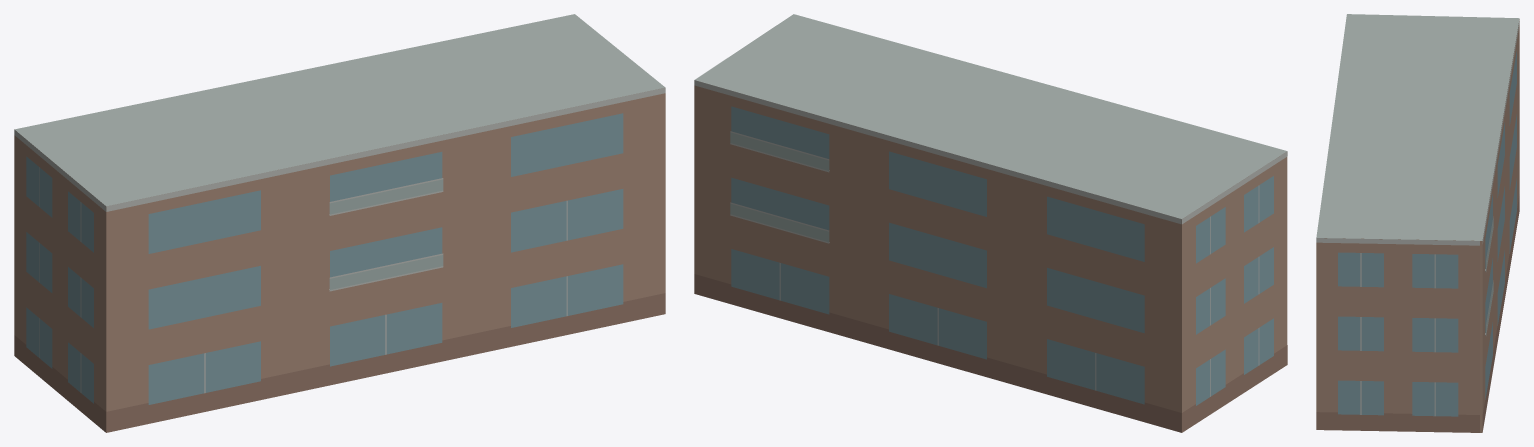
The model's file is survey-upis-32551424.glb.
3 views of the same model, side by side, from view 1: azimuth 30°, elevation 25°; view 2: azimuth 150°, elevation 25°; view 3: azimuth 270°, elevation 25° (orthographic). The views are drawn at different scales.
Parts seen in each view (by area): view 1: survey-upis-32551424.tmp; view 2: survey-upis-32551424.tmp; view 3: survey-upis-32551424.tmp.
Boxes of the visible parts, x1=… form: survey-upis-32551424.tmp: x1=14, y1=14, x2=665, y2=432; survey-upis-32551424.tmp: x1=694, y1=14, x2=1287, y2=432; survey-upis-32551424.tmp: x1=1316, y1=14, x2=1519, y2=432.
Size of the model in its own units: 24.85 by 9.8 by 9.42.
